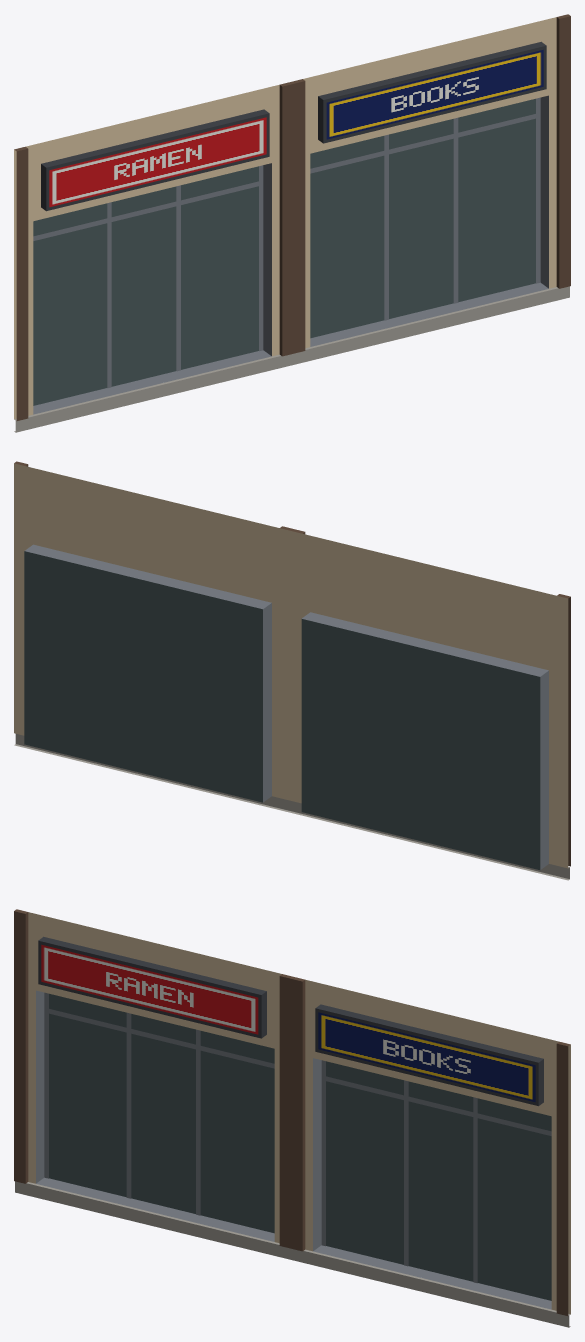
The picture shows the model from 3 angles, top to bottom: view 1: azimuth 30°, elevation 25°; view 2: azimuth 150°, elevation 25°; view 3: azimuth 330°, elevation 25°; orthographic projection.
Parts seen in each view (by area): view 1: a2009/200/base-w1; view 2: a2009/200/base-w1; view 3: a2009/200/base-w1.
Part boxes in pixels (x1,y1,x2,y2): a2009/200/base-w1: (14,14,570,432); a2009/200/base-w1: (14,461,570,880); a2009/200/base-w1: (14,909,570,1327).
Size of the model in its own units: 7.2 by 3.5 by 0.322.
